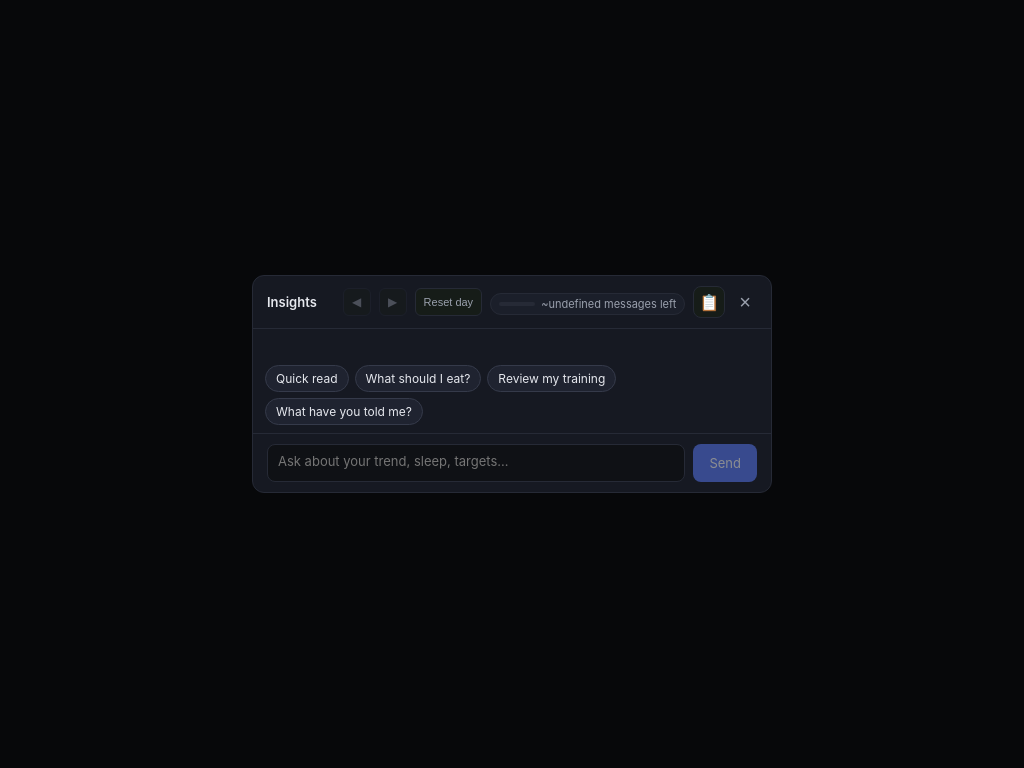
Test: InsightsChatPanel › shows the error state when copy fails
Click the button with test id "insights-copy" at (709, 302), box top-left (693, 286), bottom-right (725, 318)
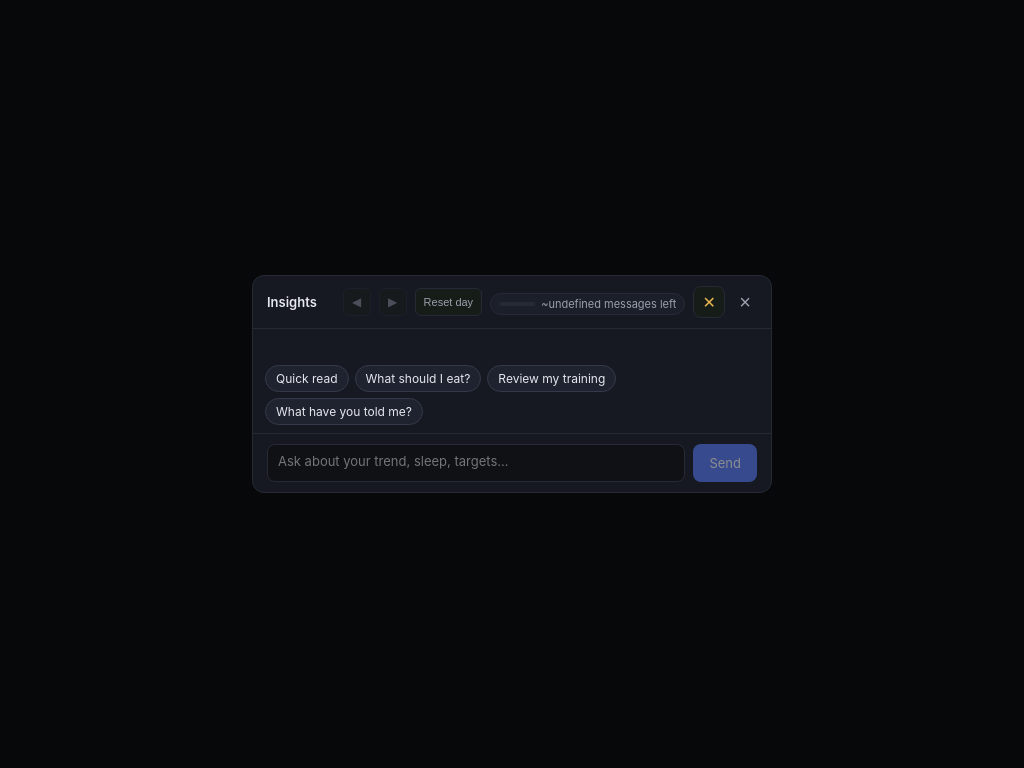
Check: the button with test id "insights-copy" reads "✕", box top-left (693, 286), bottom-right (725, 318)
